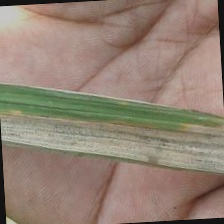Leaf_Blast: (1, 112, 193, 163)
